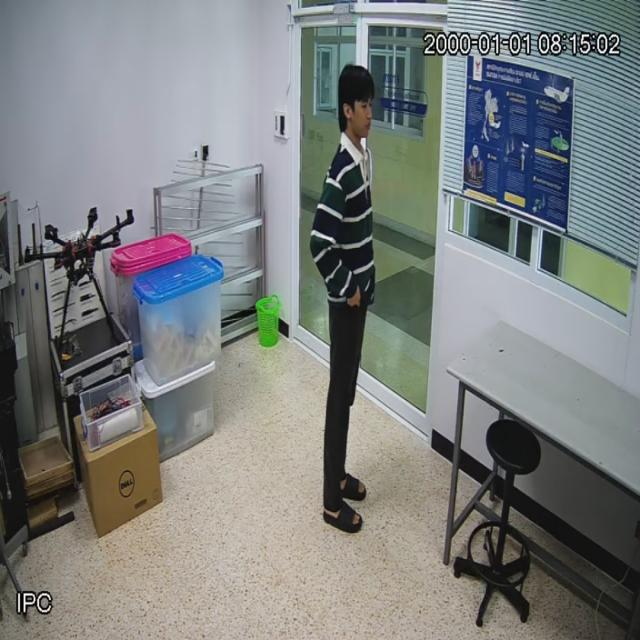normal: (310, 48, 379, 546)
